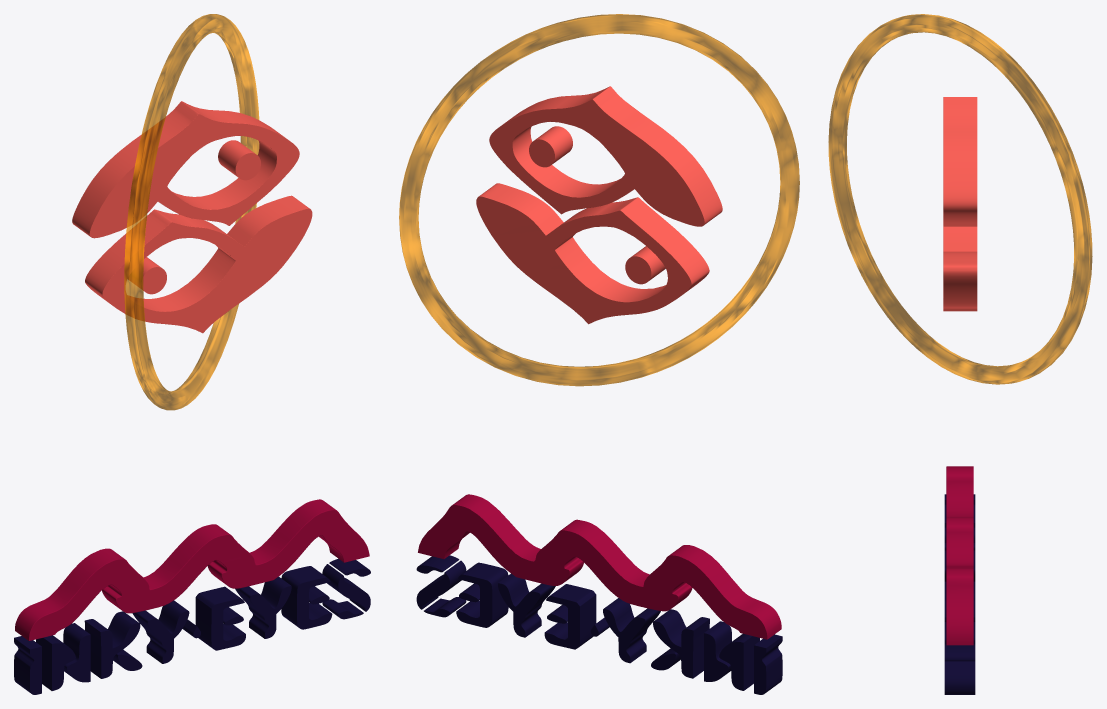
Rendered from youtube.glb.
The picture shows the model from 3 angles, left to right: view 1: azimuth 30°, elevation 25°; view 2: azimuth 150°, elevation 25°; view 3: azimuth 270°, elevation 25°; orthographic projection. The views are drawn at different scales.
Parts seen in each view (by area): view 1: bi2_v18, bi2_v19, fish2, fish1, O, fish_dot, fish_dot_(1); view 2: O, bi2_v18, bi2_v19, fish2, fish1, fish_dot, fish_dot_(1); view 3: O, bi2_v19, fish1, fish2, bi2_v18.
Boxes of the visible parts, x1=… form: bi2_v18: x1=14, y1=558, x2=370, y2=694; bi2_v19: x1=15, y1=499, x2=369, y2=640; fish2: x1=85, y1=195, x2=312, y2=333; fish1: x1=72, y1=101, x2=299, y2=238; O: x1=124, y1=14, x2=259, y2=410; fish_dot: x1=218, y1=140, x2=260, y2=180; fish_dot_(1): x1=128, y1=257, x2=166, y2=294; O: x1=399, y1=14, x2=799, y2=386; bi2_v18: x1=416, y1=555, x2=782, y2=694; bi2_v19: x1=418, y1=494, x2=781, y2=639; fish2: x1=476, y1=183, x2=709, y2=324; fish1: x1=489, y1=86, x2=722, y2=226; fish_dot: x1=529, y1=126, x2=572, y2=167; fish_dot_(1): x1=625, y1=246, x2=665, y2=284; O: x1=828, y1=14, x2=1092, y2=384; bi2_v19: x1=946, y1=466, x2=973, y2=645; fish1: x1=943, y1=97, x2=977, y2=226; fish2: x1=943, y1=226, x2=977, y2=311; bi2_v18: x1=944, y1=494, x2=975, y2=694.
Bounding box in the file's own units: 14.05 × 24.31 × 9.79.
